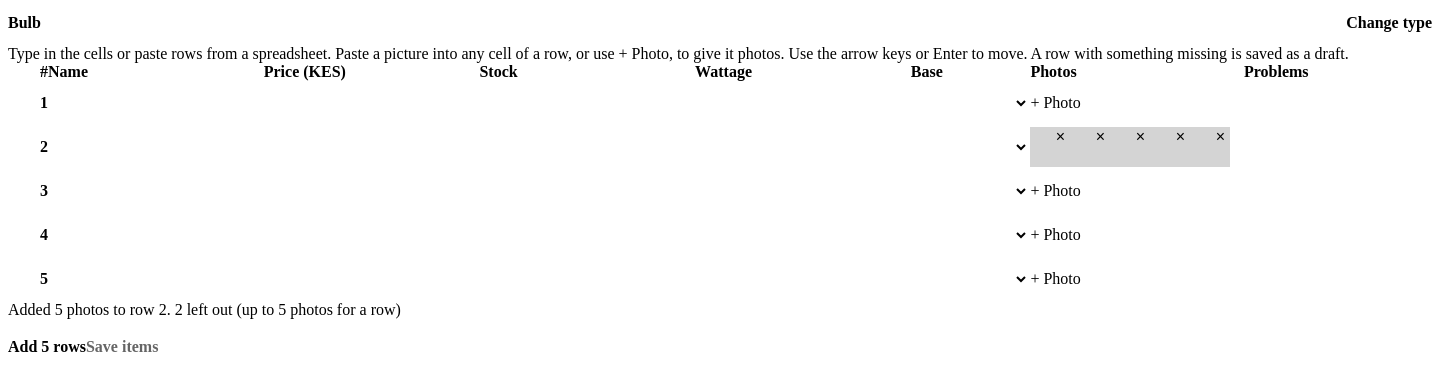
table add › lets a photo be removed, caps a row, and reports a photo that could not be sent
Expected: the message shows "2 left out (up to 5 photos for a row)", [8,301,401,318]
Click the button named "Remove photo 1 from row 2" at (1060, 137), box [1050,127,1070,147]
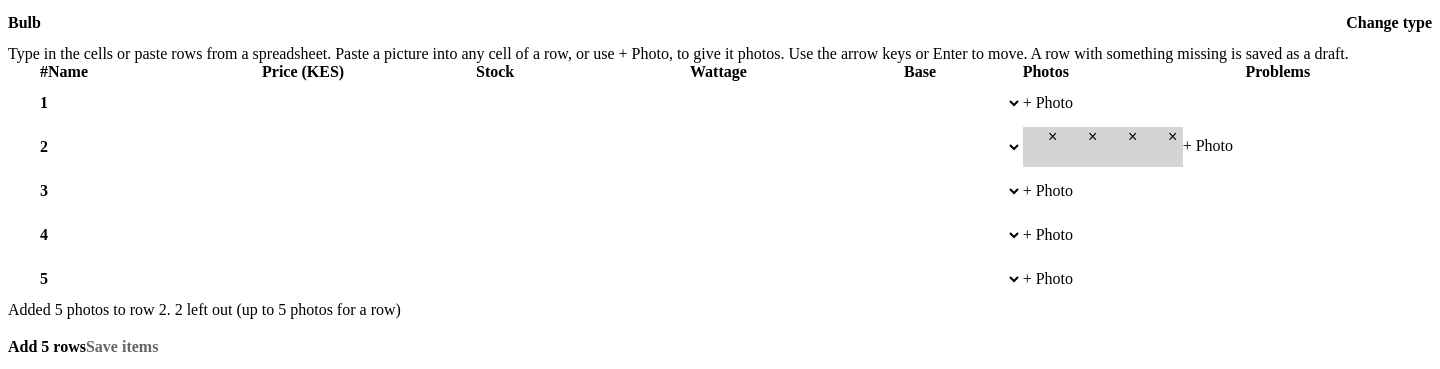
Result: the file field named "Add photos, row 2" is shown at [1183,137,1233,155]
